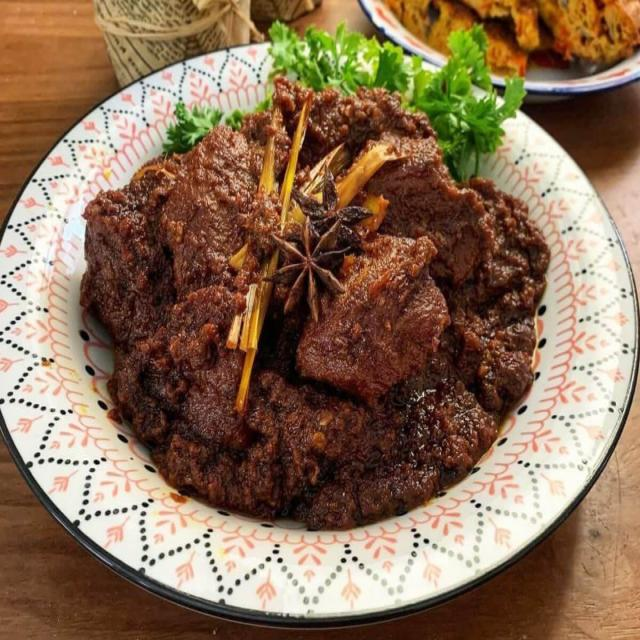Rendang: (84, 105, 549, 501)
